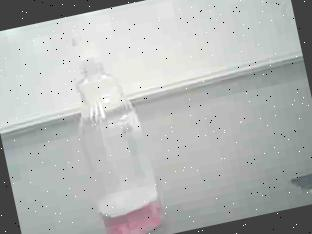hazard: (47, 10, 185, 234)
